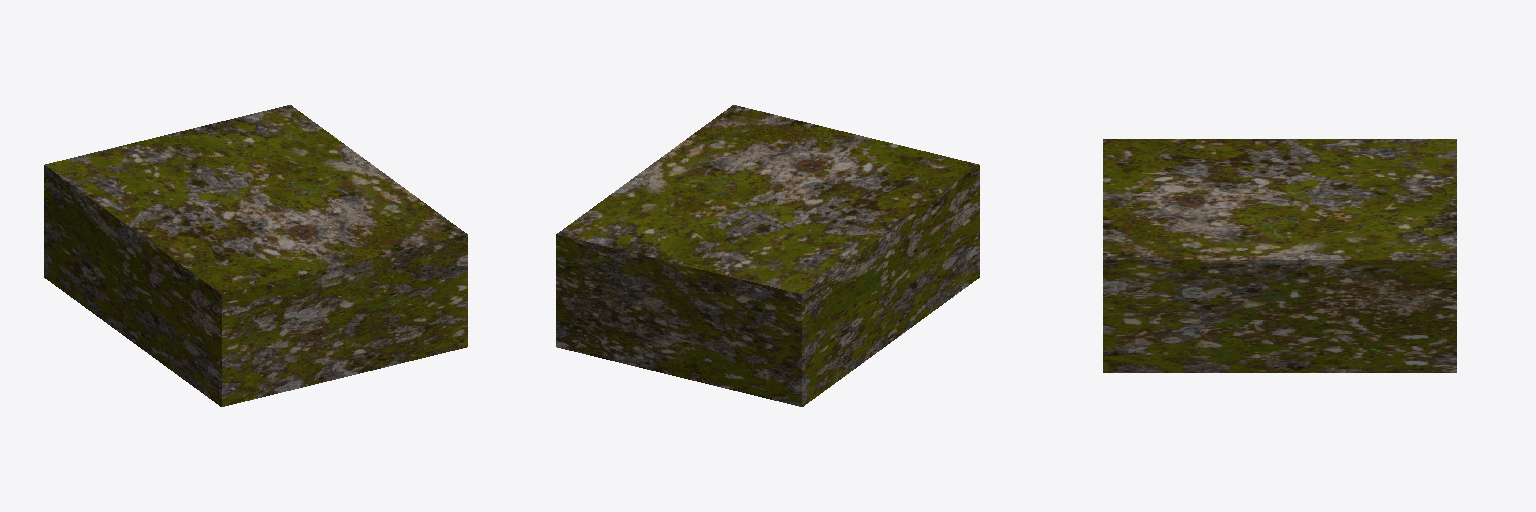
3 renders of one model, left to right at view 1: azimuth 30°, elevation 25°; view 2: azimuth 150°, elevation 25°; view 3: azimuth 270°, elevation 25°, orthographic.
Visible parts, largest first — view 1: Cube; view 2: Cube; view 3: Cube.
Part boxes in pixels (x1,y1,x2,y2): Cube: (44,105,467,406); Cube: (556,105,979,406); Cube: (1103,139,1456,372).
Bounding box in the file's own units: 0.7726 × 0.3388 × 0.9633.
Materials: 1 (1 with a texture image).